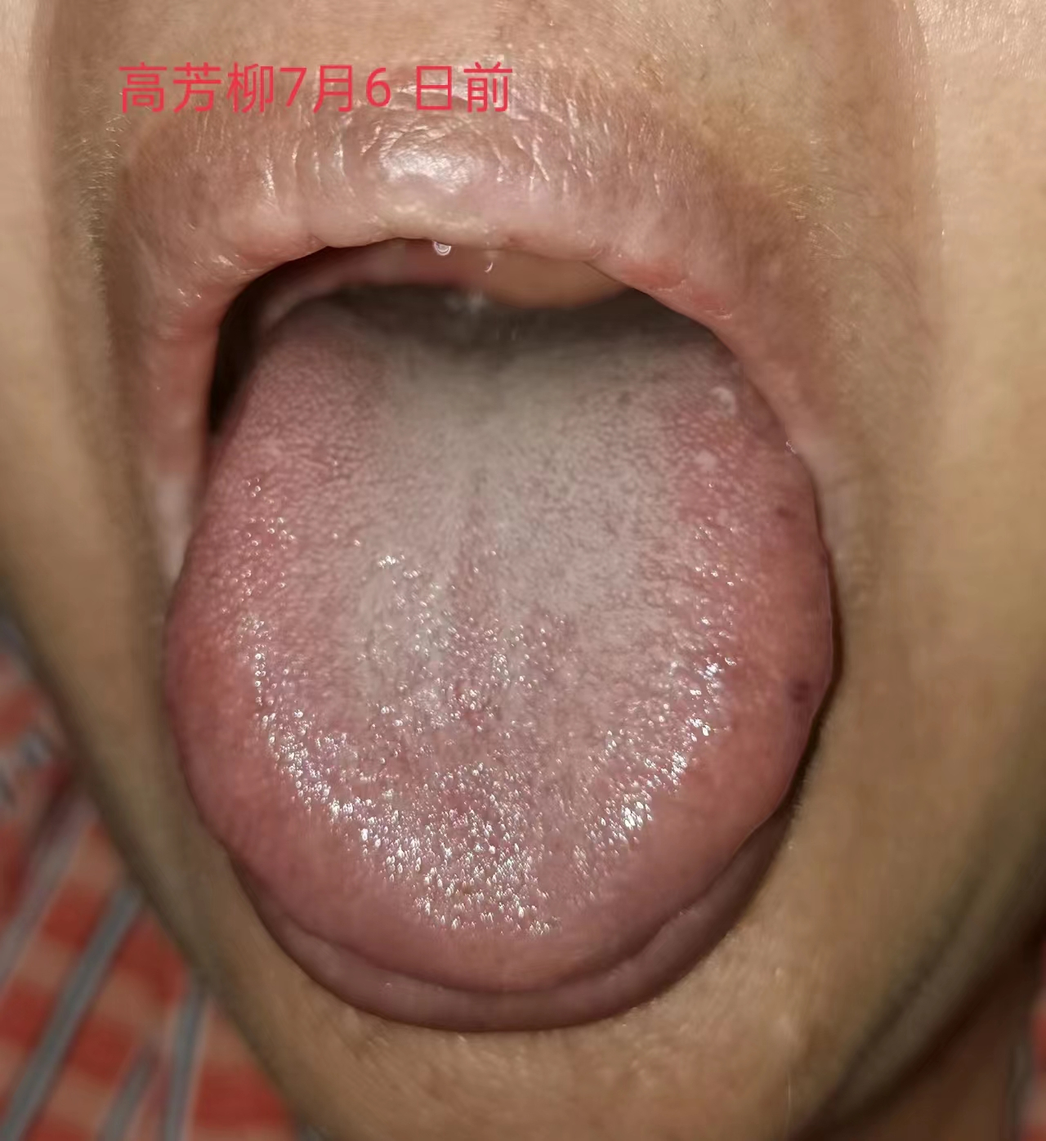baitaishe: (161, 283, 835, 995)
